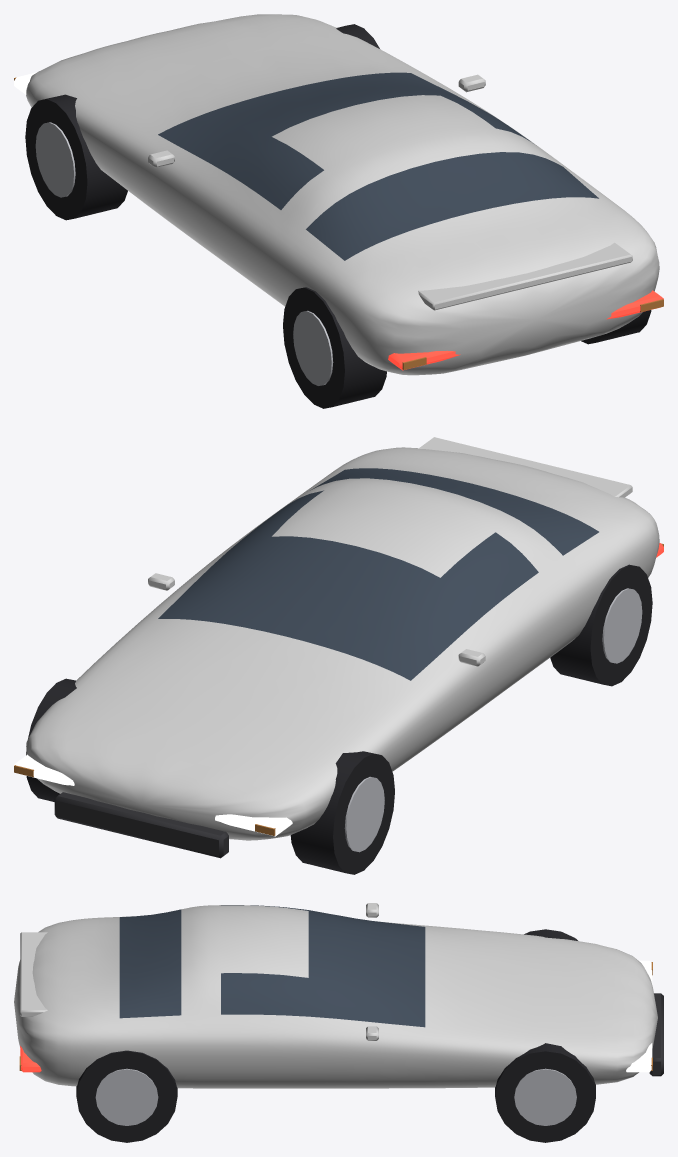
Rendered from auto_freq_sport_lod1.glb.
3 views of the same model, one above another, from view 1: azimuth 30°, elevation 25°; view 2: azimuth 150°, elevation 25°; view 3: azimuth 270°, elevation 25° (orthographic). The views are drawn at different scales.
Visible parts, largest first — view 1: Karosserie, Rad_VL, Rad_HL, Rad_HR; view 2: Karosserie, Rad_VL, Rad_HL, Rad_VR; view 3: Karosserie, Rad_VR, Rad_HR.
Part boxes in pixels (x1,y1,x2,y2): Karosserie: [14, 14, 663, 375]; Rad_VL: [25, 94, 127, 220]; Rad_HL: [283, 287, 386, 408]; Rad_HR: [581, 310, 651, 344]; Karosserie: [14, 437, 663, 858]; Rad_VL: [290, 751, 394, 874]; Rad_HL: [550, 564, 652, 686]; Rad_VR: [26, 678, 76, 801]; Karosserie: [14, 903, 663, 1088]; Rad_VR: [495, 1043, 595, 1142]; Rad_HR: [76, 1050, 177, 1142].
Bounding box in the file's own units: 2.16 × 1.17 × 4.5.
